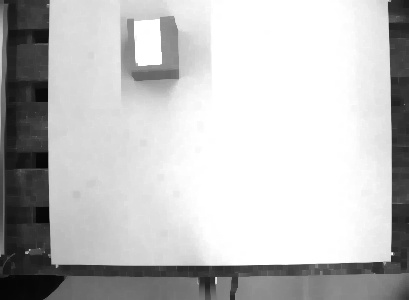b5: (124, 14, 182, 82)
